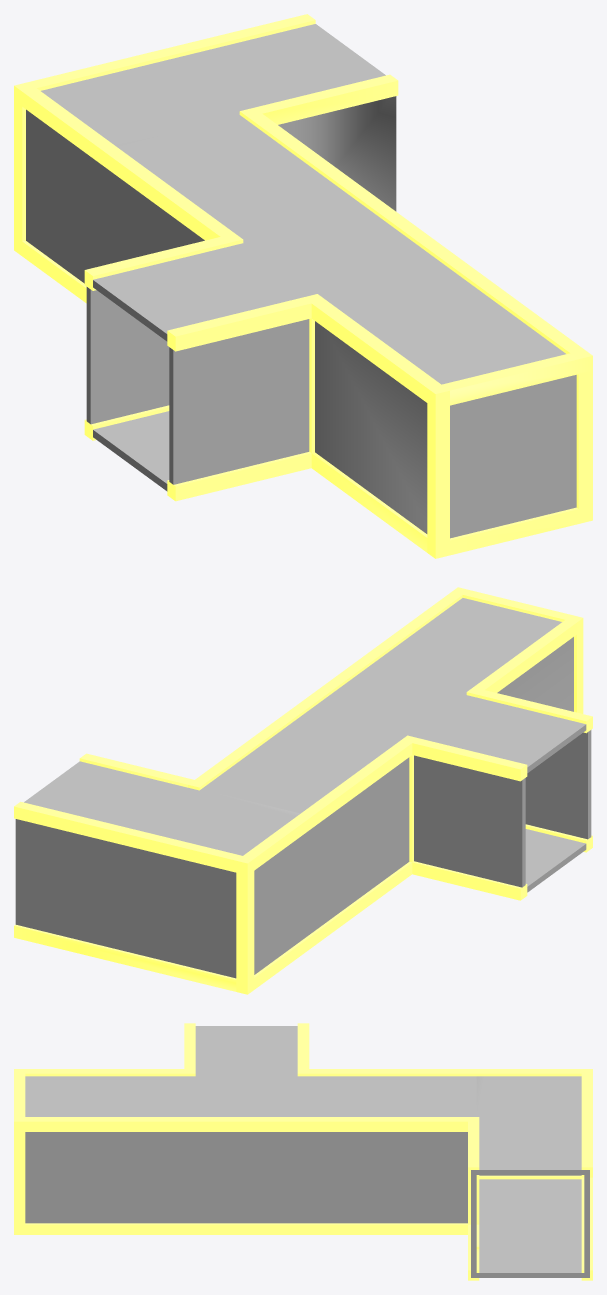
3 renders of one model, top to bottom at view 1: azimuth 30°, elevation 25°; view 2: azimuth 150°, elevation 25°; view 3: azimuth 270°, elevation 25°, orthographic. The views are drawn at different scales.
Parts seen in each view (by area): view 1: Wall, Light; view 2: Wall, Light; view 3: Wall, Light.
Part boxes in pixels (x1=…): Wall: x1=26, y1=24, x2=576, y2=538; Light: x1=14, y1=14, x2=592, y2=558; Wall: x1=15, y1=598, x2=591, y2=978; Light: x1=14, y1=587, x2=592, y2=994; Wall: x1=25, y1=1026, x2=589, y2=1277; Light: x1=14, y1=1023, x2=592, y2=1280.
Bounding box in the file's own units: 60 × 22 × 102.
